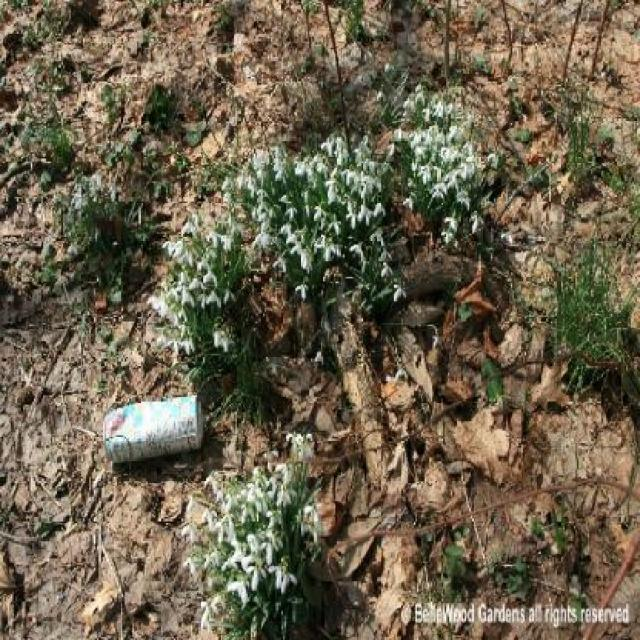garbage: (83, 394, 224, 459)
